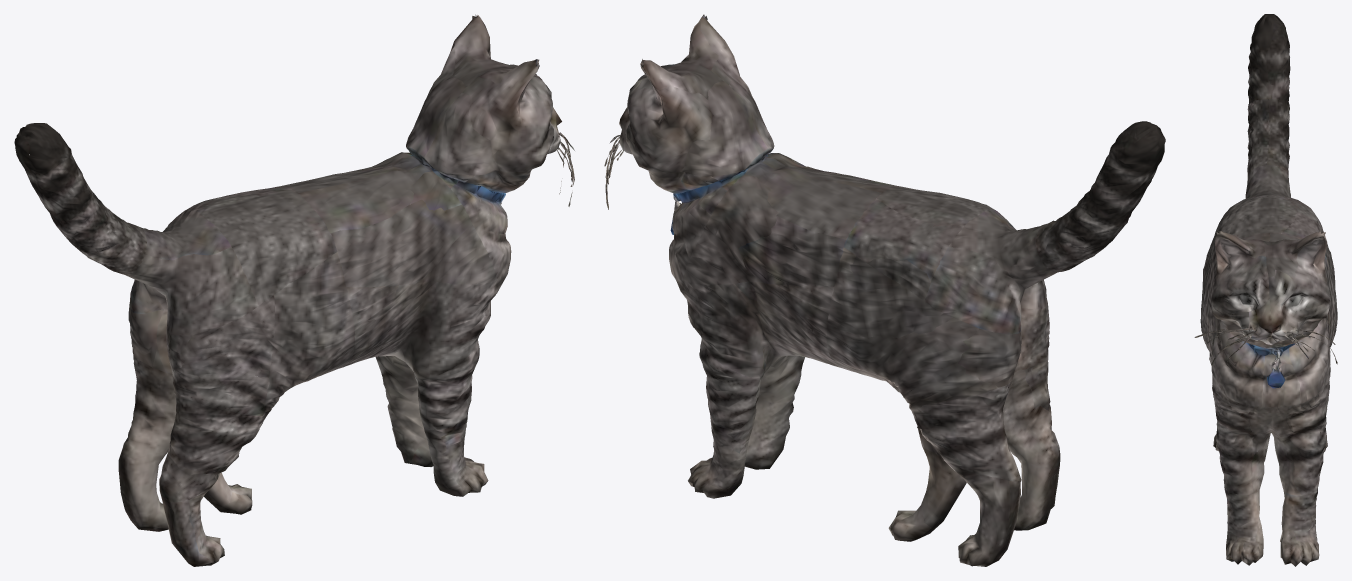
Rendered from BROWSERCAT-lo.glb.
3 renders of one model, left to right at view 1: azimuth 30°, elevation 25°; view 2: azimuth 150°, elevation 25°; view 3: azimuth 270°, elevation 25°, orthographic. The views are drawn at different scales.
Visible parts, largest first — view 1: tripo_node_4d06cd75-9151-498d-83e7-01a8bc044cc0; view 2: tripo_node_4d06cd75-9151-498d-83e7-01a8bc044cc0; view 3: tripo_node_4d06cd75-9151-498d-83e7-01a8bc044cc0.
Part boxes in pixels (x1,y1,x2,y2): tripo_node_4d06cd75-9151-498d-83e7-01a8bc044cc0: (14,14,574,566); tripo_node_4d06cd75-9151-498d-83e7-01a8bc044cc0: (604,14,1165,566); tripo_node_4d06cd75-9151-498d-83e7-01a8bc044cc0: (1194,14,1337,566).
Size of the model in its own units: 1.24 by 0.9943 by 0.3423.
Materials: 1 (1 with a texture image).
